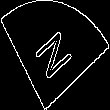N_SW: (31, 24, 79, 86)
